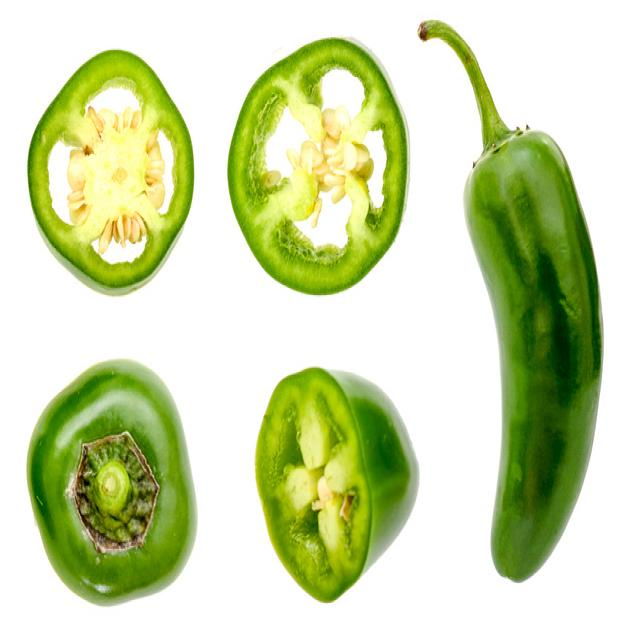aji: (431, 67, 621, 638), (222, 33, 408, 320), (39, 38, 202, 295), (41, 358, 192, 627), (249, 363, 409, 605)
